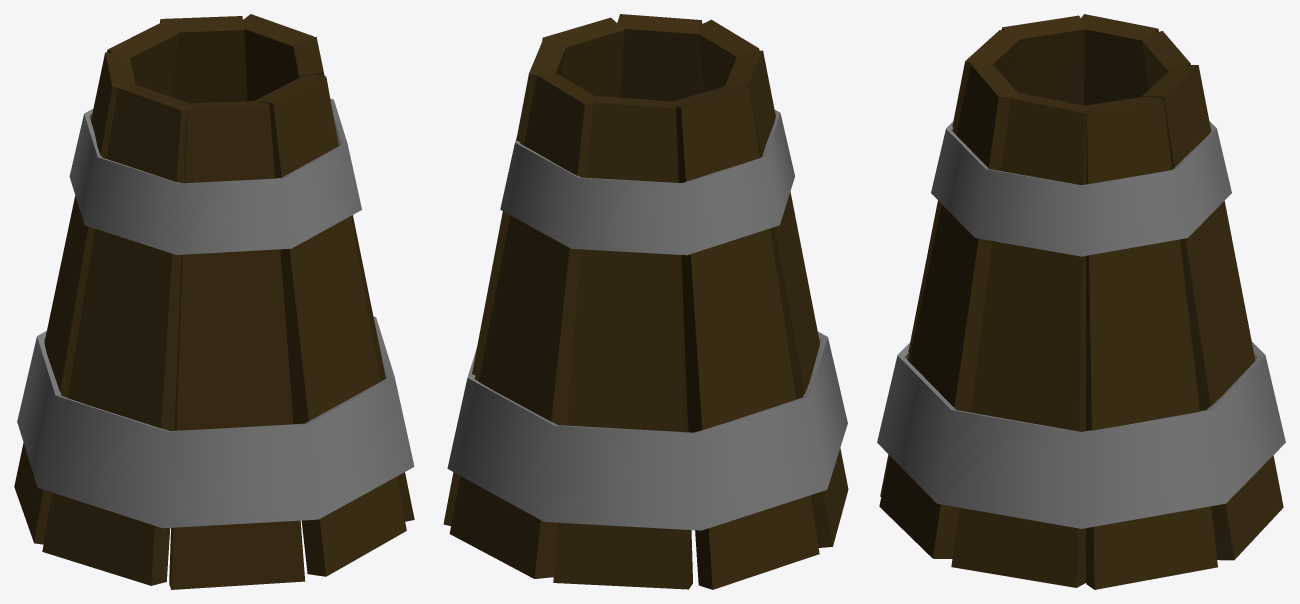
The model's file is burence.FBX.
The picture shows the model from 3 angles, left to right: view 1: azimuth 30°, elevation 25°; view 2: azimuth 150°, elevation 25°; view 3: azimuth 270°, elevation 25°; orthographic projection.
Parts seen in each view (by area): view 1: oko bure005, Box1445, Box1446, Box1444, oko bure006, Box1447, Box1449, Box1451, Box1448, Box1450; view 2: oko bure005, Box1448, Box1447, Box1449, oko bure006, Box1446, Box1444, Box1450, Box1451, Box1445; view 3: oko bure005, Box1451, Box1450, oko bure006, Box1444, Box1449, Box1446, Box1447, Box1445, Box1448.
Boxes of the visible parts, box(x1,y1,x2,y2) form: oko bure005: box(17, 316, 414, 528); Box1445: box(169, 101, 305, 589); Box1446: box(42, 84, 188, 585); Box1444: box(254, 74, 406, 576); oko bure006: box(69, 98, 361, 254); Box1447: box(14, 52, 135, 544); Box1449: box(160, 16, 247, 103); Box1451: box(243, 14, 313, 101); Box1448: box(107, 23, 178, 96); Box1450: box(293, 36, 414, 521); oko bure005: box(447, 331, 847, 530); Box1448: box(553, 96, 692, 589); Box1447: box(673, 86, 819, 589); Box1449: box(449, 73, 595, 578); oko bure006: box(500, 110, 794, 255); Box1446: box(725, 50, 848, 547); Box1444: box(617, 14, 703, 101); Box1450: box(542, 17, 624, 97); Box1451: box(443, 39, 566, 525); Box1445: box(698, 19, 759, 92); oko bure005: box(877, 341, 1285, 528); Box1451: box(1084, 96, 1217, 589); Box1450: box(951, 93, 1086, 587); oko bure006: box(931, 121, 1231, 256); Box1444: box(879, 64, 1018, 558); Box1449: box(1142, 65, 1283, 560); Box1446: box(1001, 15, 1085, 105); Box1447: box(1081, 14, 1158, 105); Box1445: box(880, 30, 1020, 496); Box1448: box(1142, 31, 1281, 497).
Size of the model in its own units: 50.3 by 59.61 by 49.89.
